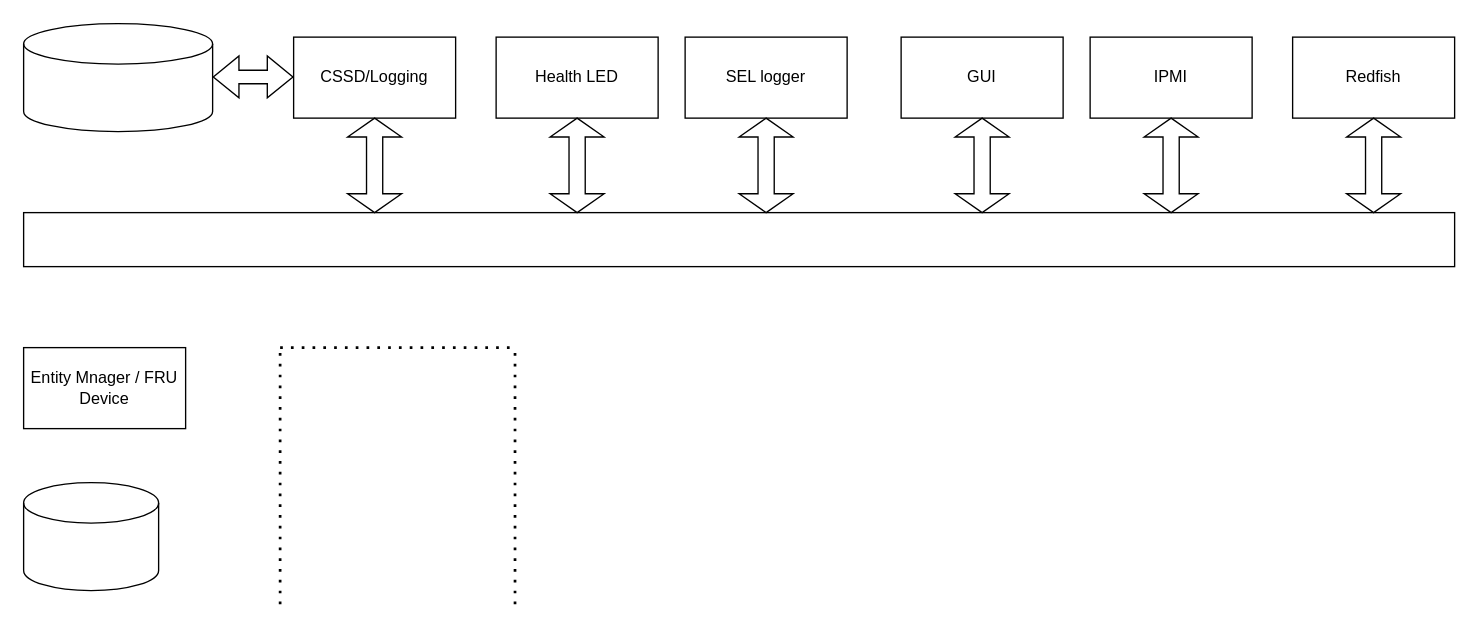
Some shapes in this 1478 by 630 pixel diagram are drawn without their labels. Each missing label, with the box of its shape:
DBUS: (22, 211, 1455, 267)
Json Config files: (22, 481, 159, 591)
SEL Event logs: (22, 22, 213, 132)
